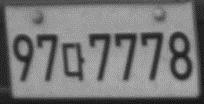7: (140, 30, 163, 81), (88, 32, 111, 82), (114, 32, 137, 80), (36, 33, 57, 82)
8: (167, 30, 192, 80)
9: (12, 33, 34, 81)
다: (60, 41, 85, 81)
